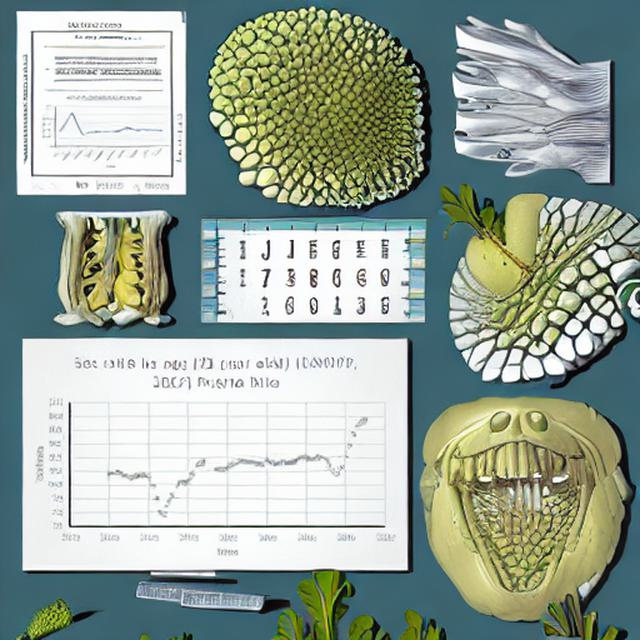Graph: (26, 348, 400, 565), (37, 93, 170, 172)
